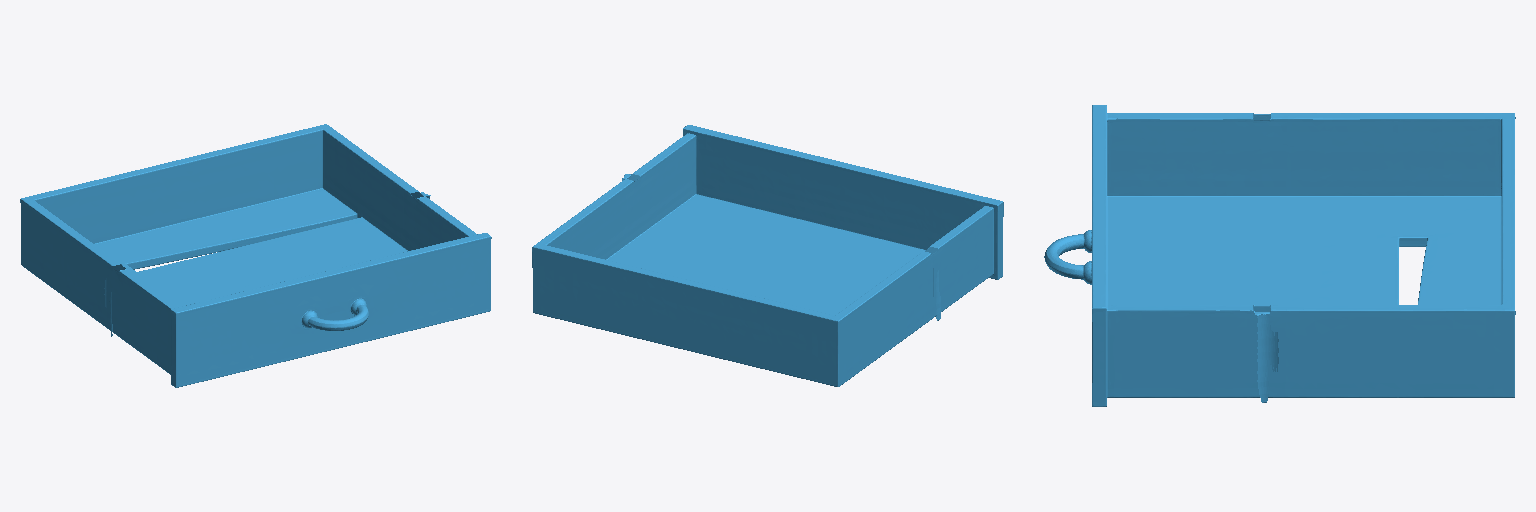
robot.urdf — cabinet_03:
<?xml version='1.0' encoding='utf-8'?>
<robot name="cabinet_03">
  <link name="l_0">
    <visual>
      <origin xyz="0 0 0" rpy="0 0 0" />
      <geometry>
        <mesh filename="./cabinet_03_objs/0/0.obj" />
      </geometry>
    </visual>
    <collision>
      <origin xyz="0 0 0" rpy="0 0 0" />
      <geometry>
        <mesh filename="./cabinet_03_objs/0/0.obj" />
      </geometry>
    </collision>
  </link>
  <link name="l_1">
    <visual>
      <origin xyz="0.0025000000000000044 0.0025000000000000044 0.0025000000000000044" rpy="0 0 0" />
      <geometry>
        <mesh filename="./cabinet_03_objs/1/1.obj" />
      </geometry>
    </visual>
    <collision>
      <origin xyz="0.0025000000000000044 0.0025000000000000044 0.0025000000000000044" rpy="0 0 0" />
      <geometry>
        <mesh filename="./cabinet_03_objs/1/1.obj" />
      </geometry>
    </collision>
  </link>
  <joint name="j_1" type="prismatic">
    <parent link="l_0" />
    <child link="l_1" />
    <origin xyz="-0.0025000000000000044 -0.0025000000000000044 -0.0025000000000000044" rpy="0 0 0" />
    <axis xyz="0.0 1.0 0.0" />
    <limit lower="-0.1100" upper="0.210" effort="10" velocity="10" />
  </joint>
</robot>

--- Facts derived from the render (not from the file) ---
3 views of the same robot in one strip: view 1: azimuth 30°, elevation 25°; view 2: azimuth 150°, elevation 25°; view 3: azimuth 270°, elevation 25° (orthographic).
Robot: cabinet_03 — 2 links, 1 joints (1 prismatic); root link l_0; default pose: all joints at 0.
Visible links, largest first — view 1: l_1; view 2: l_1; view 3: l_1.
Boxes of the visible links, box(x1,y1,x2,y2) form: l_1: box(20, 124, 491, 387); l_1: box(532, 125, 1003, 386); l_1: box(1044, 105, 1515, 406).
Size in the robot's own frame: 0.7814 by 0.7609 by 0.1775 metres.
Meshes: 2 distinct files referenced, 1 mesh visuals loaded (1 OBJ); not drawn: 1 (reference not matched to a file when rendering).
